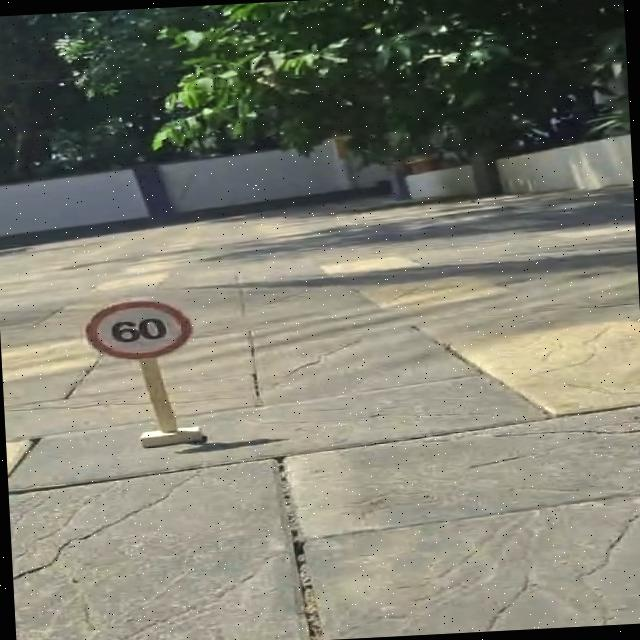Speed60: (72, 288, 206, 369)
